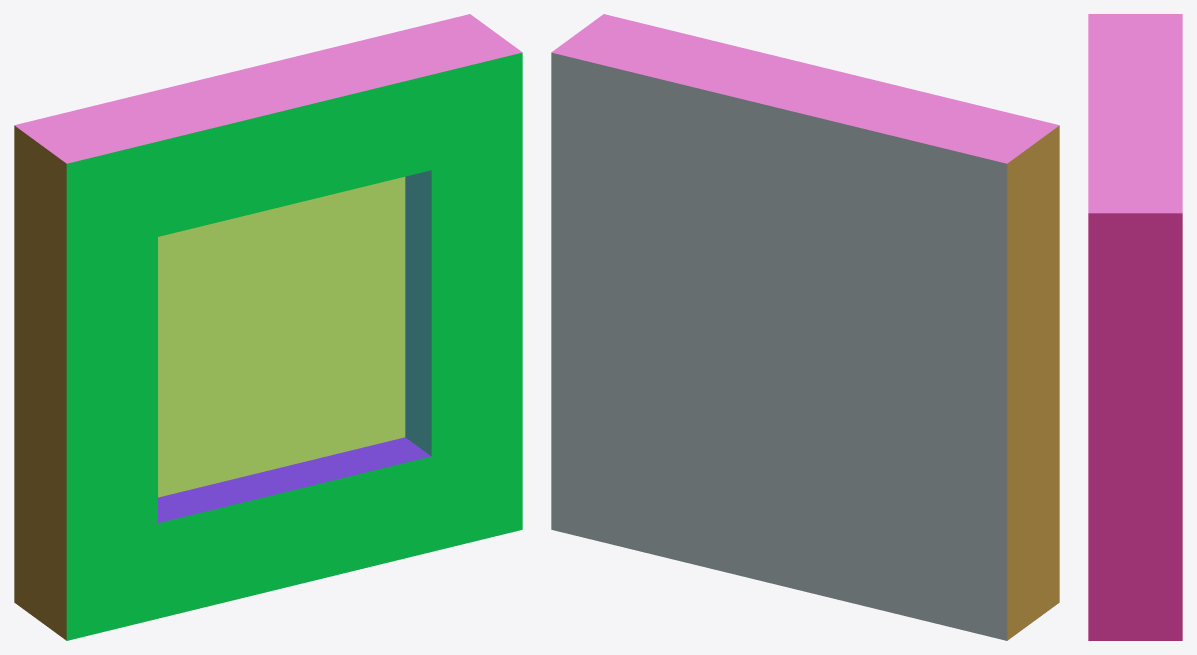
The picture shows the model from 3 angles, left to right: view 1: azimuth 30°, elevation 25°; view 2: azimuth 150°, elevation 25°; view 3: azimuth 270°, elevation 25°; orthographic projection. The views are drawn at different scales.
Parts seen in each view (by area): view 1: SOLID; view 2: SOLID; view 3: SOLID.
Boxes of the visible parts, bbox=[...] form: SOLID: bbox=[14, 14, 522, 640]; SOLID: bbox=[551, 14, 1059, 640]; SOLID: bbox=[1088, 14, 1182, 640].
Size of the model in its own units: 0.1 by 0.1 by 0.02.
